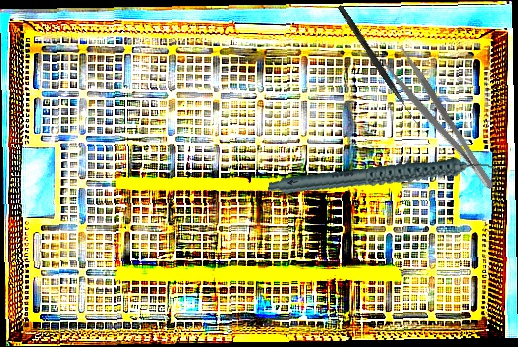Dressing Forceps: (379, 43, 499, 202)
Handpiece: (267, 131, 500, 224)
Hook Surgical: (335, 4, 421, 125)
